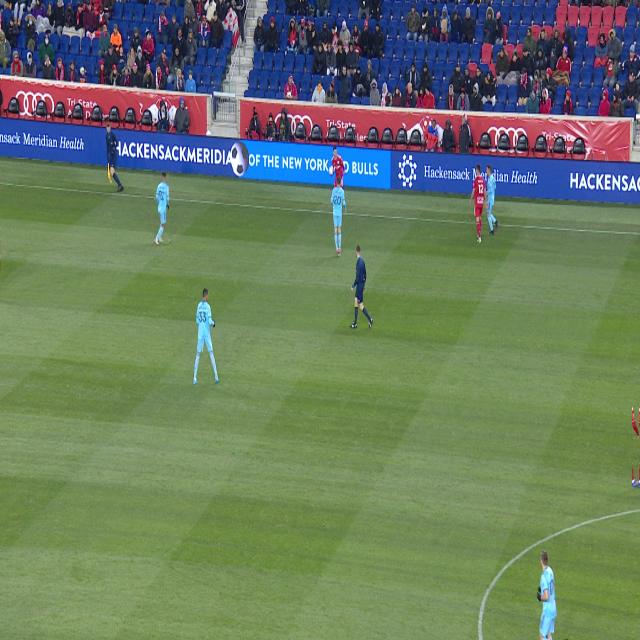player: (193, 289, 219, 385), (537, 550, 557, 640), (470, 164, 488, 244), (331, 177, 346, 256), (155, 172, 169, 245), (486, 165, 498, 235), (632, 407, 640, 438), (632, 460, 640, 487)
referee: (350, 246, 373, 328)
